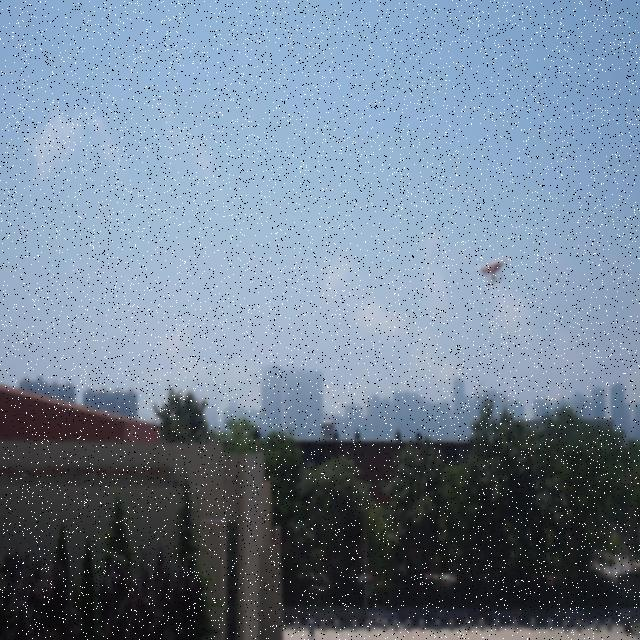UAV: (475, 258, 512, 286)
